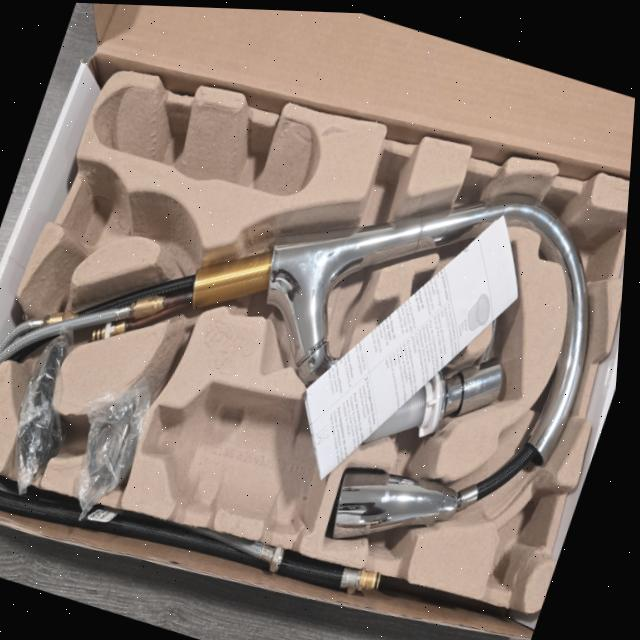1o: (0, 196, 588, 537)
2o: (361, 278, 503, 444)
3m: (143, 381, 347, 530)
4m: (91, 85, 317, 195)
5m: (73, 178, 129, 247)
6: (77, 377, 151, 516)
7: (13, 331, 68, 493)
8: (302, 211, 517, 479)
